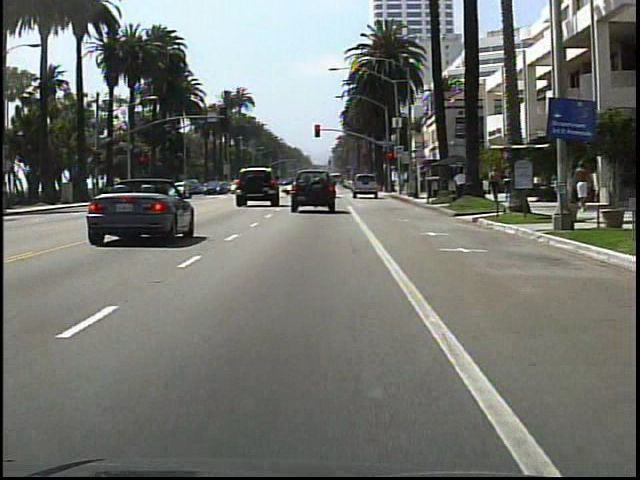person: (571, 159, 589, 215), (452, 167, 472, 202), (488, 166, 502, 208)
